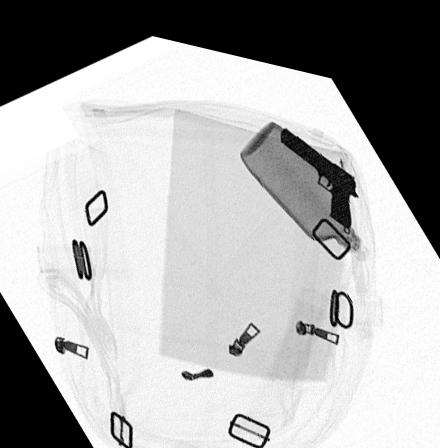Gun: (275, 111, 360, 213)
